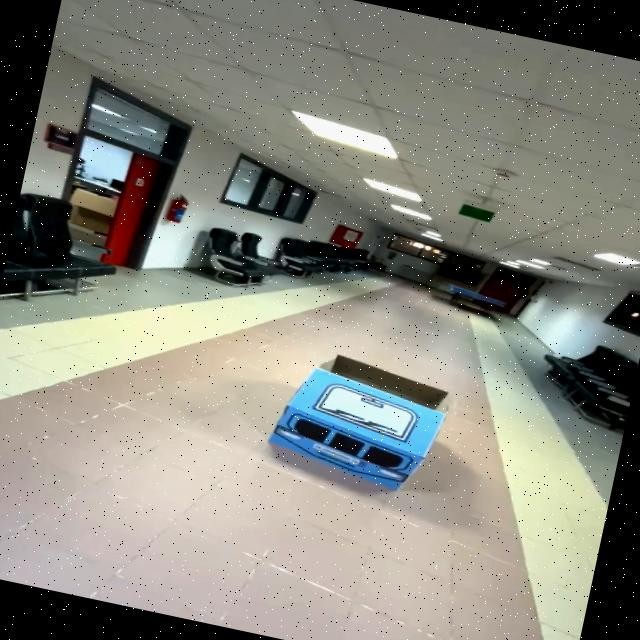blue_car: (232, 324, 479, 526)
